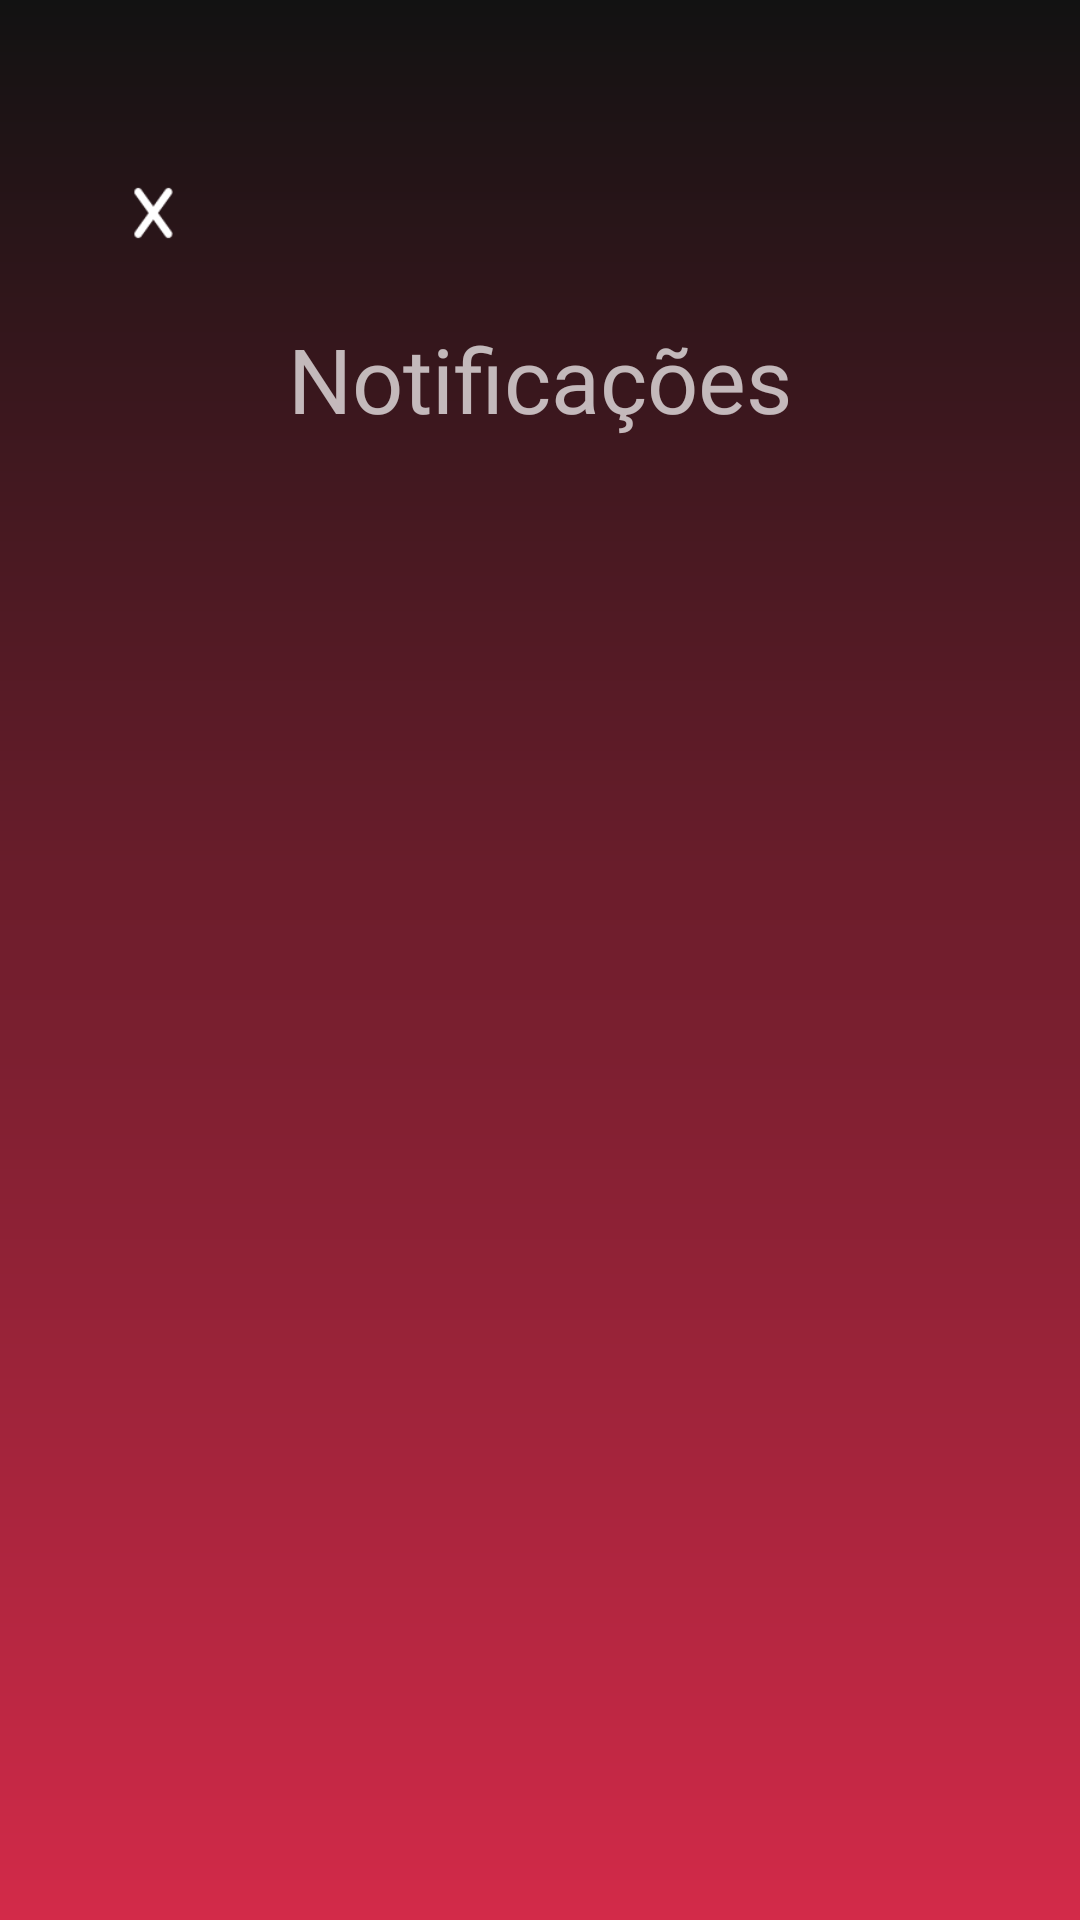

Icon bounding boxes for this 1080*1920 phone screenshot, format (x1, y1, x2, y2):
xiszao: (134, 188, 173, 238)
